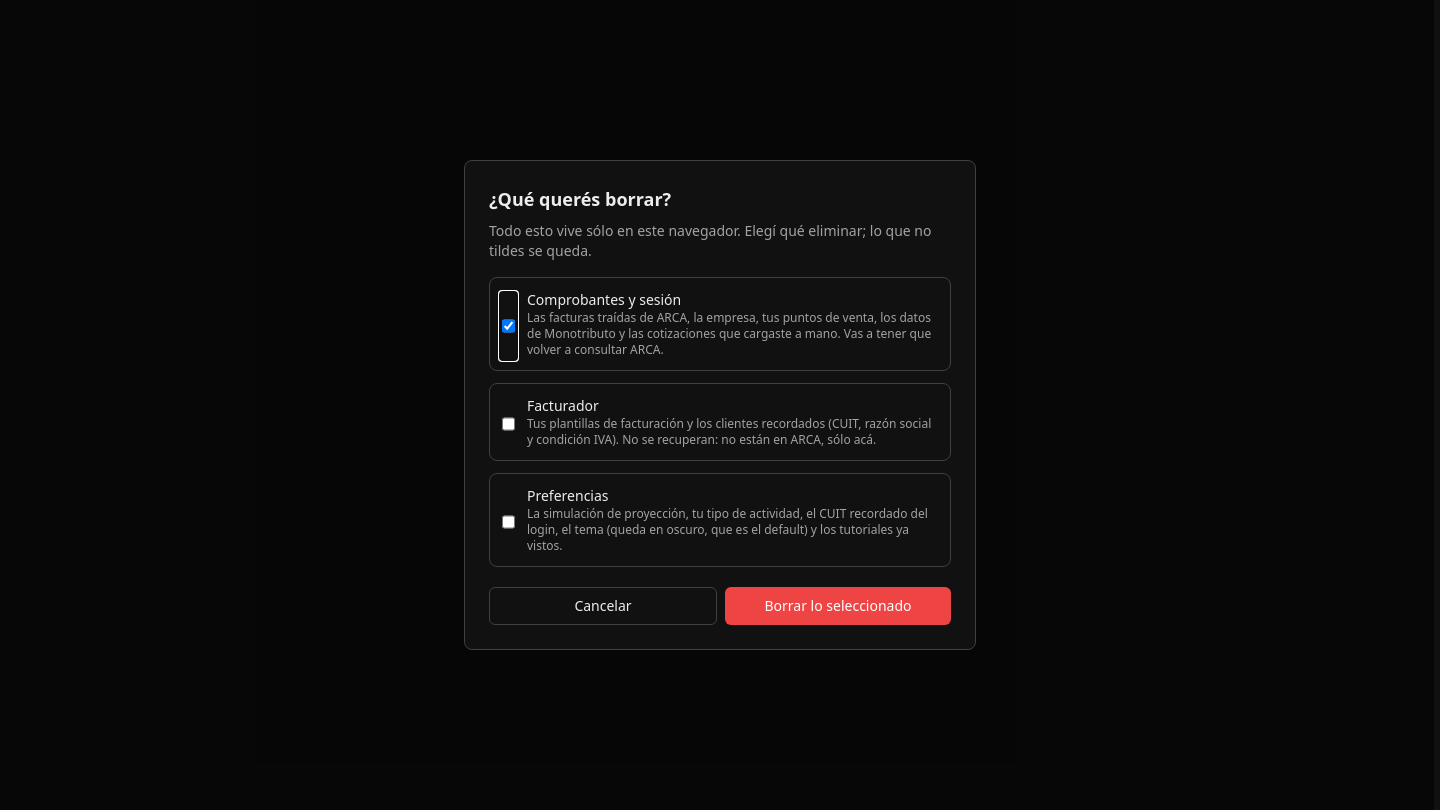
Test: ClearDataModal › deshabilita confirmar si no hay ningún grupo tildado
This screenshot has width=1440, height=810.
Click the checkbox labelled "Comprobantes y sesión" at (508, 326), box [502,294,515,358]
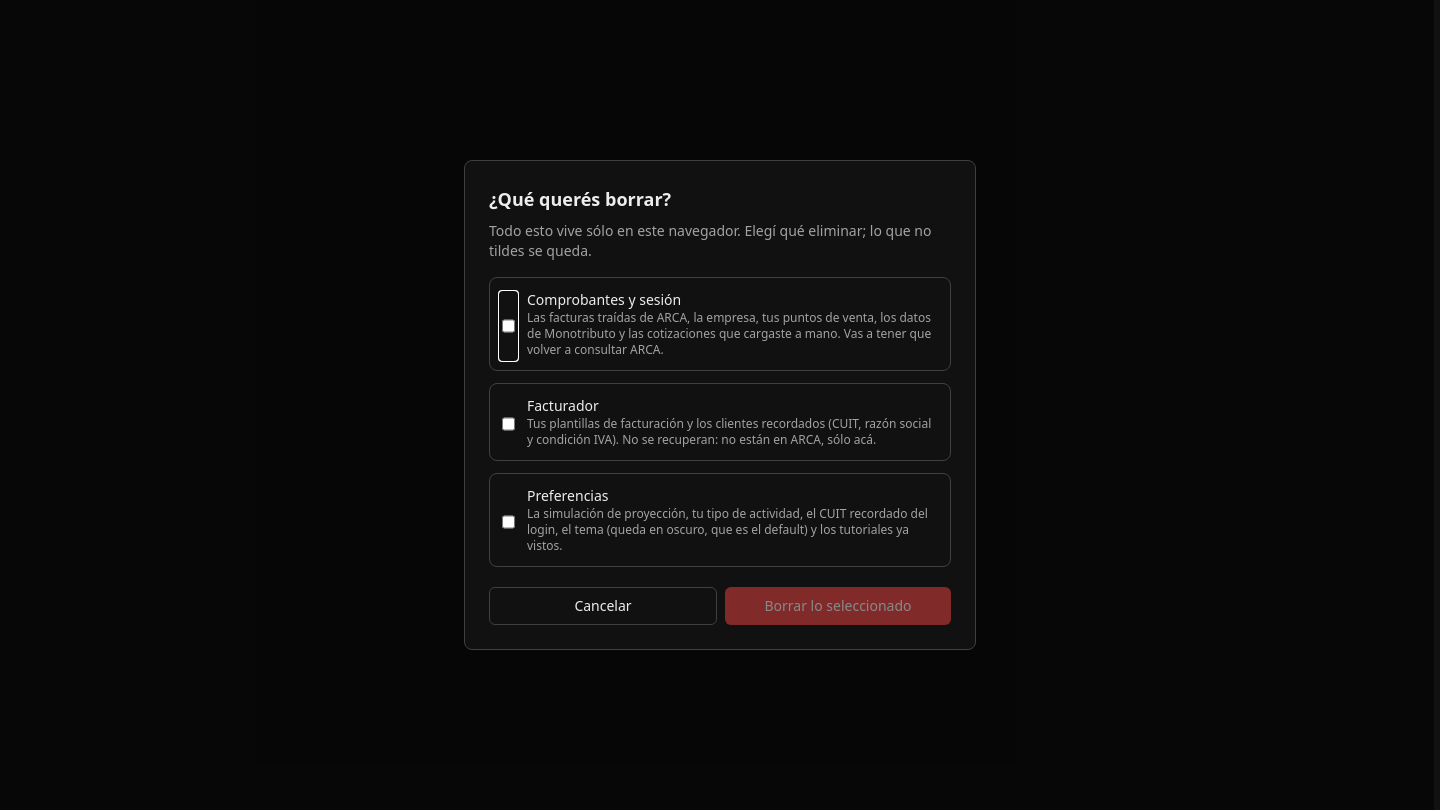
Expected: the button "Borrar lo seleccionado" is disabled, [725,587,951,625]
